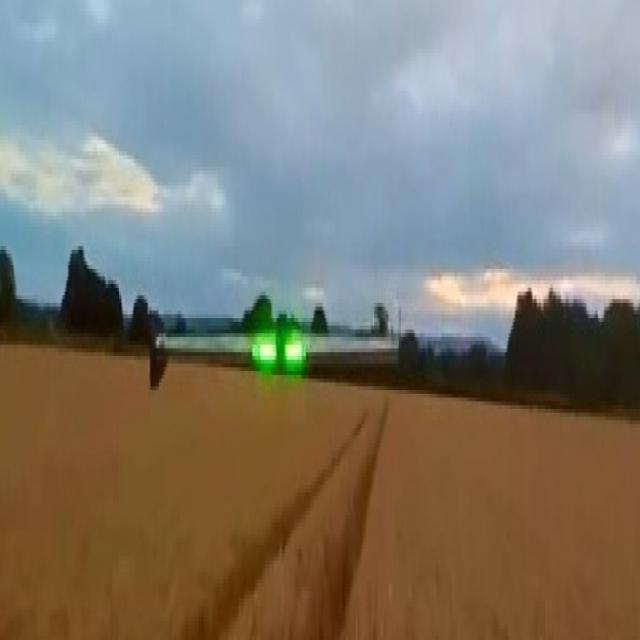iha: (135, 323, 425, 379)
